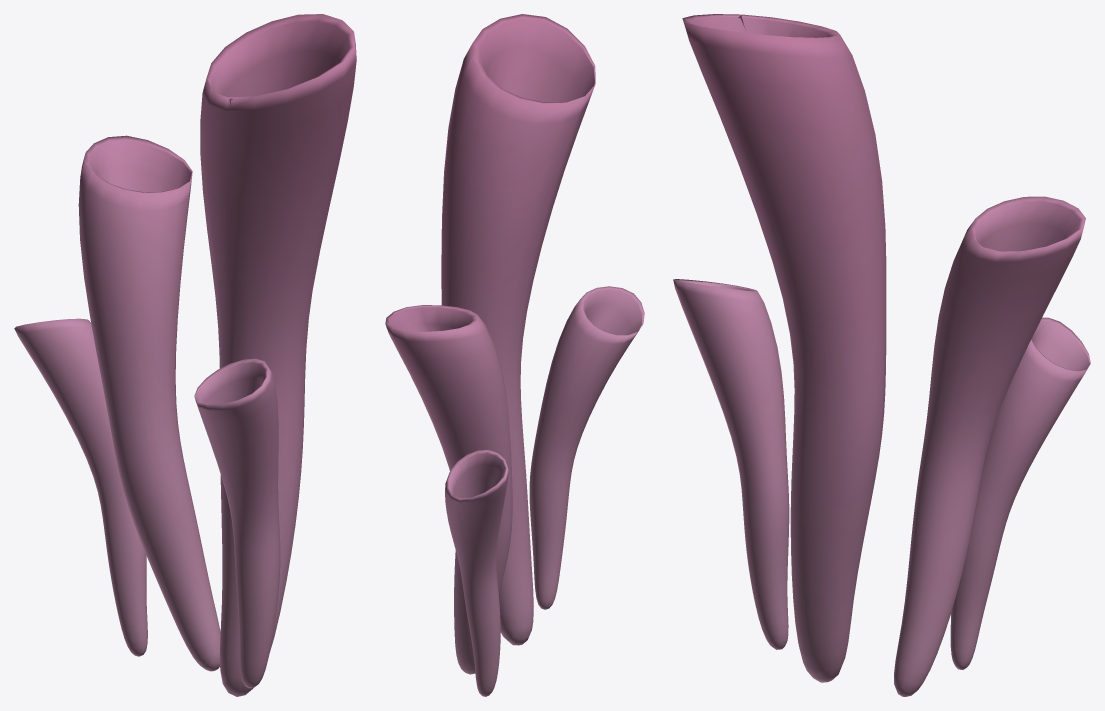
File: sm_coralli_tondi.fbx
3 views of the same model, side by side, from view 1: azimuth 30°, elevation 25°; view 2: azimuth 150°, elevation 25°; view 3: azimuth 270°, elevation 25° (orthographic). The views are drawn at different scales.
Visible parts, largest first — view 1: sm_coralli_tondi; view 2: sm_coralli_tondi; view 3: sm_coralli_tondi.
Boxes of the visible parts, left/top/right/bottom form: sm_coralli_tondi: left=14, top=14, right=356, bottom=696; sm_coralli_tondi: left=385, top=14, right=644, bottom=696; sm_coralli_tondi: left=673, top=14, right=1090, bottom=696.
Size of the model in its own units: 2.26 by 4.34 by 7.92.
